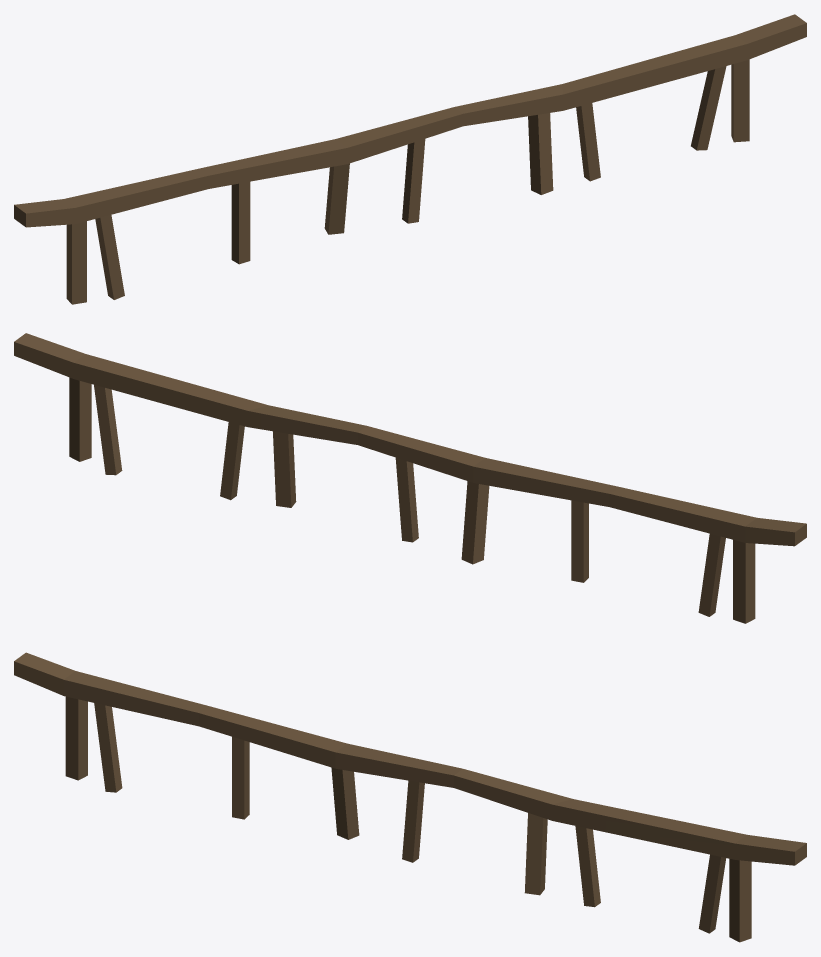
The model's file is SM_Prop_Fence_01.glb.
3 views of the same model, one above another, from view 1: azimuth 30°, elevation 25°; view 2: azimuth 150°, elevation 25°; view 3: azimuth 330°, elevation 25° (orthographic).
Visible parts, largest first — view 1: SM_Prop_Fence_01; view 2: SM_Prop_Fence_01; view 3: SM_Prop_Fence_01.
Boxes of the visible parts, x1=… form: SM_Prop_Fence_01: x1=14, y1=14, x2=806, y2=304; SM_Prop_Fence_01: x1=14, y1=333, x2=806, y2=623; SM_Prop_Fence_01: x1=14, y1=652, x2=806, y2=942.
Size of the model in its own units: 0.057 by 0.00767 by 0.00253.
